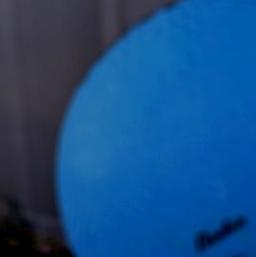algae: (57, 0, 256, 257)
